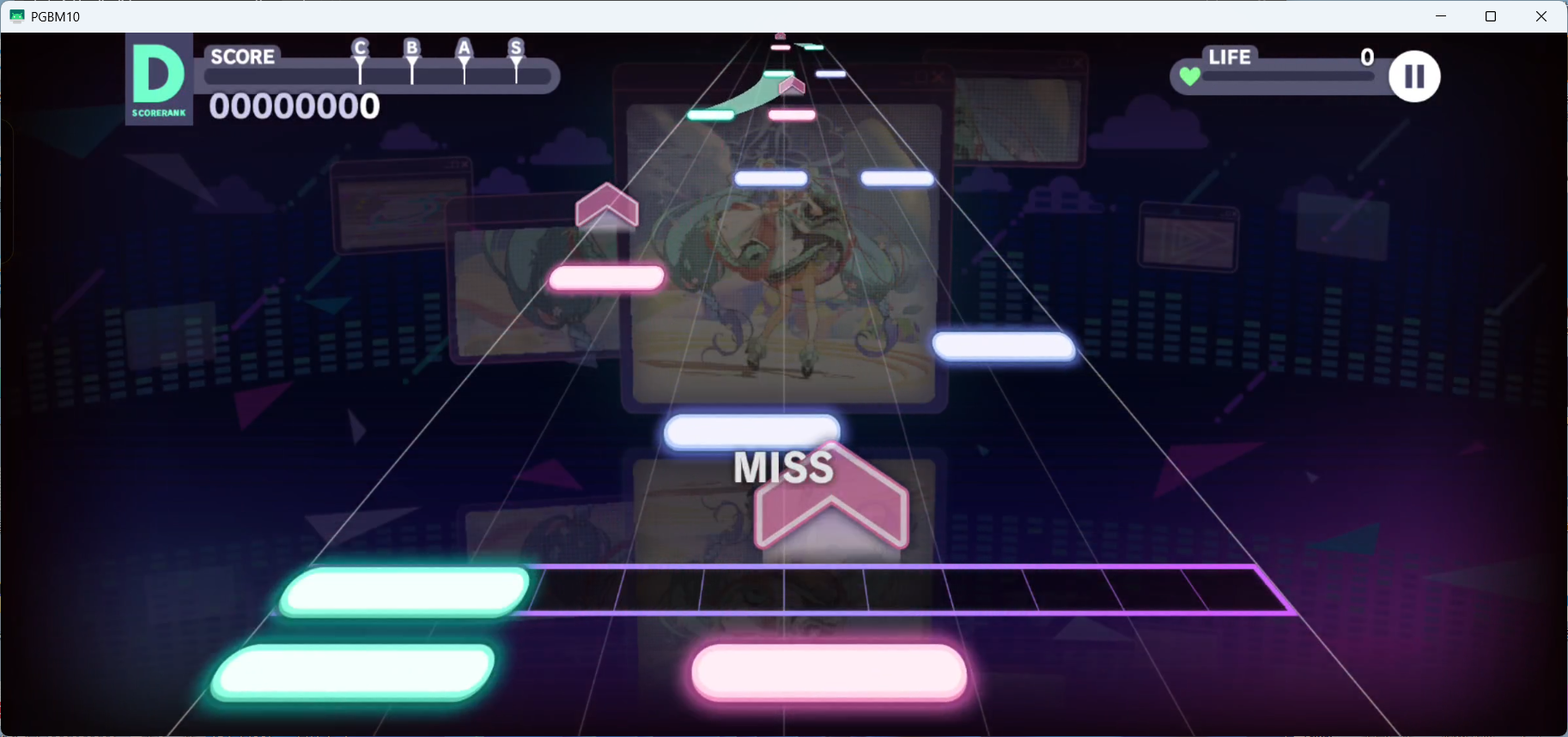flick: (753, 441, 906, 569), (575, 182, 639, 235), (778, 76, 805, 97), (775, 33, 786, 40)
hold: (703, 80, 791, 110)
tap: (211, 640, 495, 704), (692, 644, 968, 703), (278, 567, 531, 620), (662, 414, 842, 453), (930, 331, 1078, 363), (547, 263, 663, 293), (860, 170, 935, 187), (734, 171, 807, 187), (687, 109, 735, 120), (769, 110, 815, 121), (763, 70, 794, 79), (816, 70, 846, 78), (770, 45, 790, 51), (804, 45, 824, 51)
